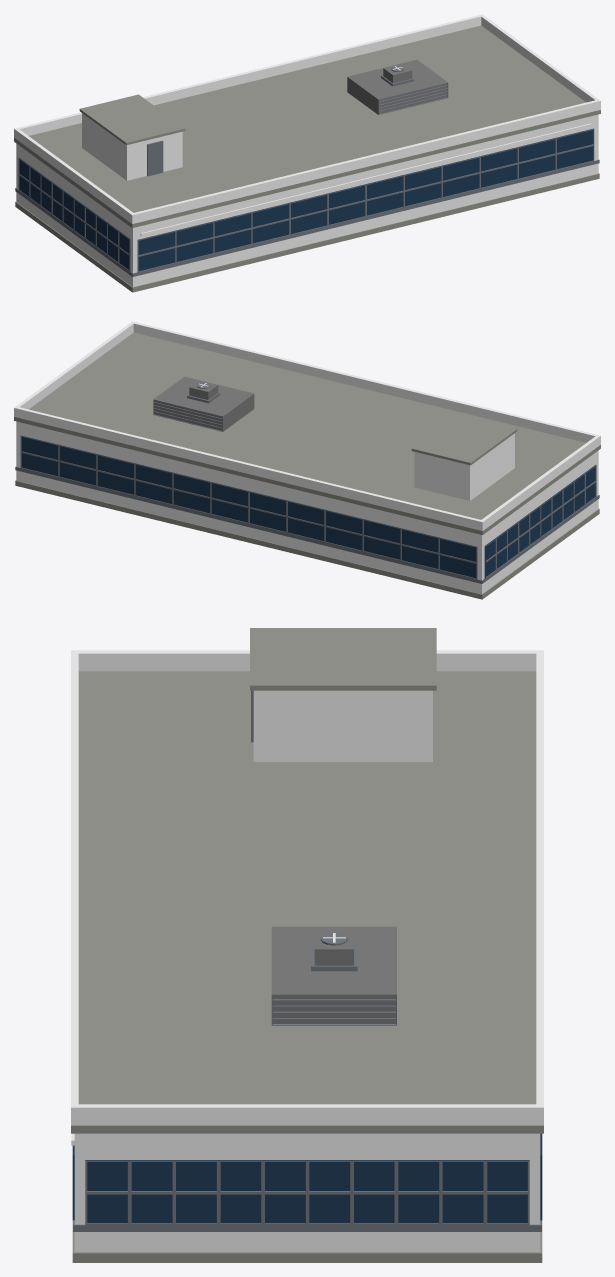
File: mashup-lecture-top-prebuilt_close.fbx
The picture shows the model from 3 angles, top to bottom: view 1: azimuth 30°, elevation 25°; view 2: azimuth 150°, elevation 25°; view 3: azimuth 270°, elevation 25°; orthographic projection. The views are drawn at different scales.
Parts seen in each view (by area): view 1: a201.LectureTop.001; view 2: a201.LectureTop.001; view 3: a201.LectureTop.001.
Part boxes in pixels (left/top/right/bottom): a201.LectureTop.001: left=14, top=14, right=600, bottom=292; a201.LectureTop.001: left=14, top=321, right=600, bottom=599; a201.LectureTop.001: left=71, top=628, right=543, bottom=1262.
Bounding box in the file's own units: 30.2 × 6.65 × 13.2.
